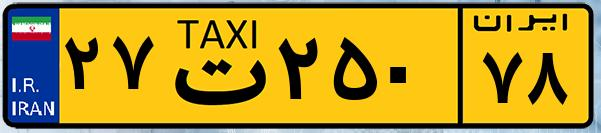0: (385, 28, 445, 110)
2: (270, 28, 330, 110), (57, 26, 110, 100)
5: (330, 28, 385, 110)
7: (475, 38, 525, 113), (110, 28, 158, 98)
8: (525, 38, 570, 115)
ت: (158, 12, 270, 120)
